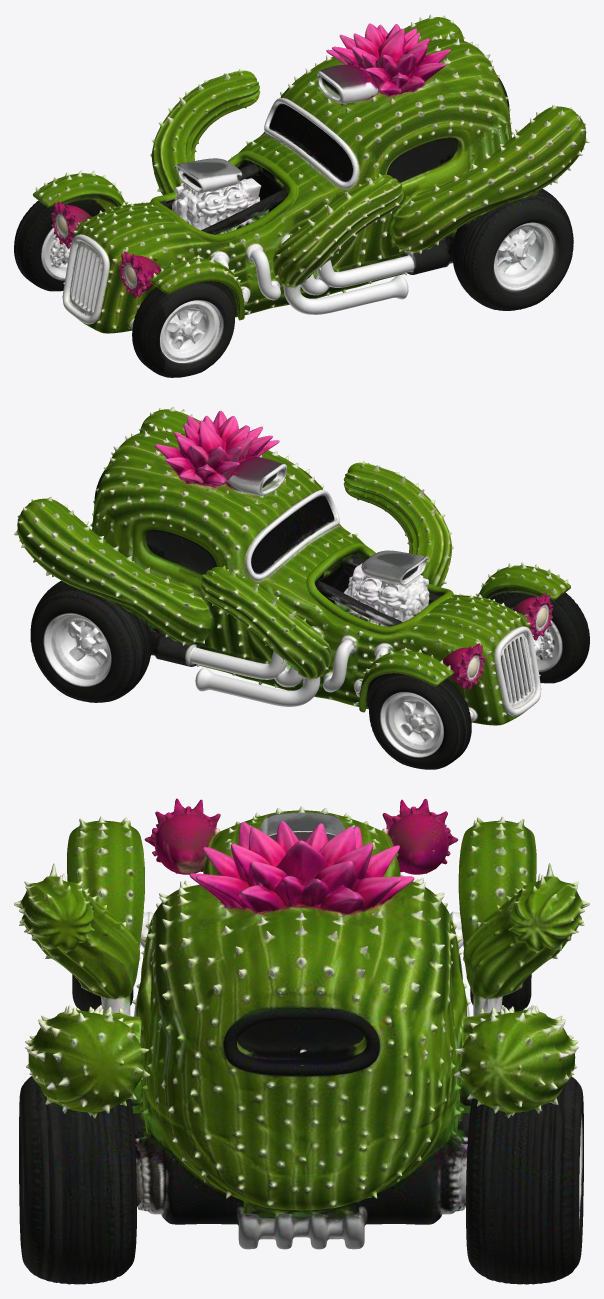
The model's file is cactus.glb.
3 renders of one model, top to bottom at view 1: azimuth 30°, elevation 25°; view 2: azimuth 150°, elevation 25°; view 3: azimuth 270°, elevation 25°, orthographic. The views are drawn at different scales.
Parts seen in each view (by area): view 1: object 1, wheel_3, wheel_1, wheel_2; view 2: object 1, wheel_2, wheel_0, wheel_3; view 3: object 1, wheel_0, wheel_1.
Part boxes in pixels (x1=…): object 1: x1=14, y1=14, x2=589, y2=377; wheel_3: x1=113, y1=285, x2=223, y2=368; wheel_1: x1=455, y1=220, x2=562, y2=297; wheel_2: x1=42, y1=215, x2=92, y2=280; object 1: x1=14, y1=406, x2=589, y2=769; wheel_2: x1=380, y1=660, x2=488, y2=760; wheel_0: x1=41, y1=612, x2=148, y2=689; wheel_3: x1=511, y1=607, x2=561, y2=672; object 1: x1=14, y1=798, x2=589, y2=1284; wheel_0: x1=422, y1=1107, x2=583, y2=1247; wheel_1: x1=19, y1=1107, x2=176, y2=1246.
Bounding box in the file's own units: 1.9 × 0.9353 × 1.26.
Materials: 1 (1 with a texture image).
